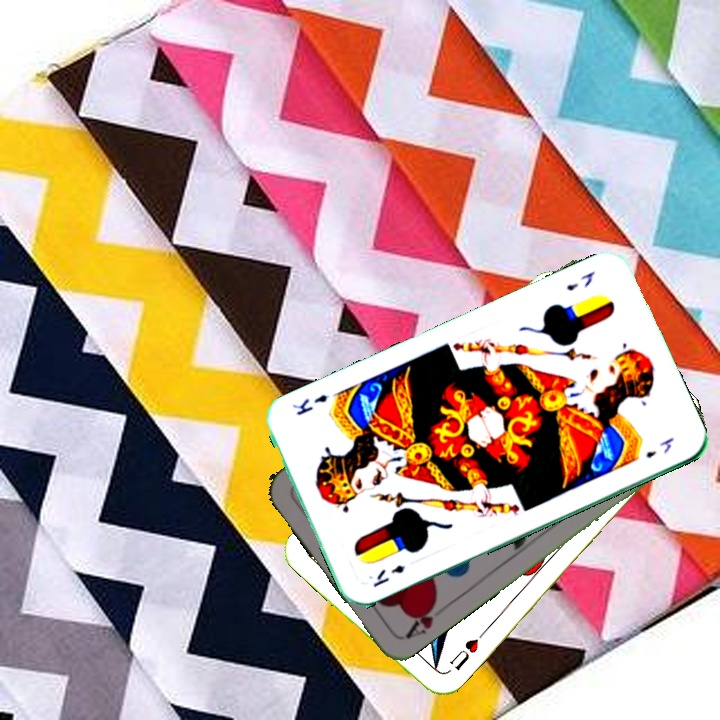EK: (369, 560, 408, 590), (562, 267, 598, 294)
HA: (401, 595, 440, 642)
HU: (445, 634, 482, 673)
